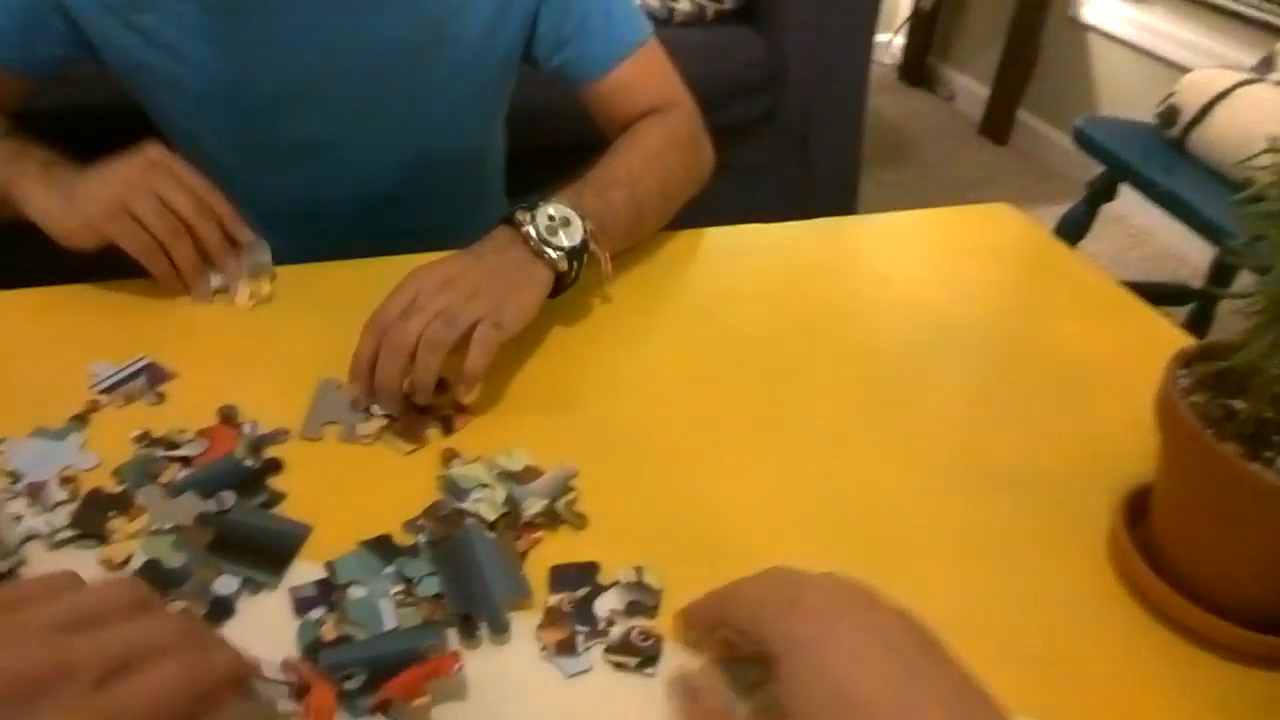hand: (676, 569, 996, 717), (343, 219, 538, 414), (0, 571, 265, 709), (32, 134, 252, 289)
